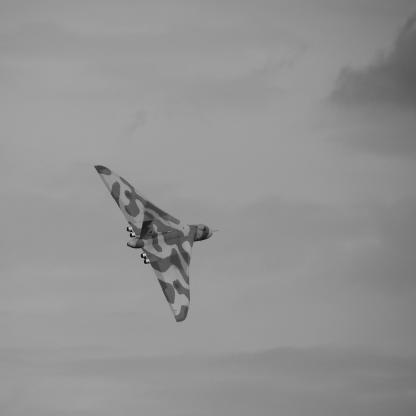Vulcan: (95, 166, 219, 324)
